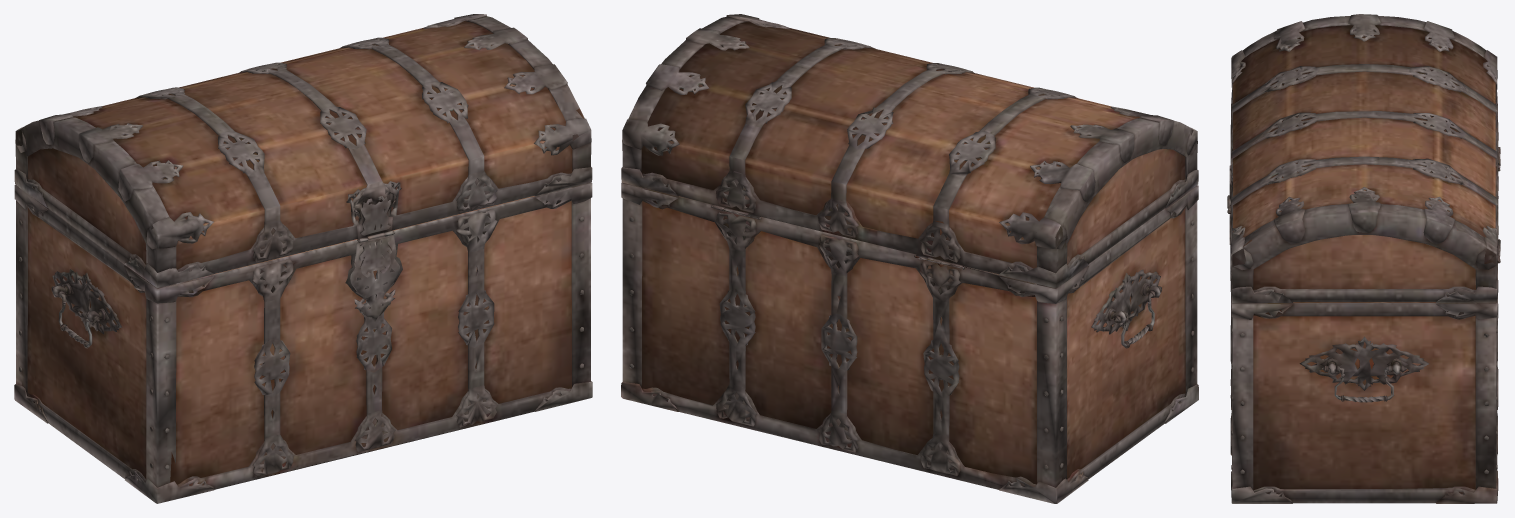
File: treasure_chest.glb
3 views of the same model, side by side, from view 1: azimuth 30°, elevation 25°; view 2: azimuth 150°, elevation 25°; view 3: azimuth 270°, elevation 25° (orthographic). The views are drawn at different scales.
Visible parts, largest first — view 1: treasure_chest_bottom; view 2: treasure_chest_bottom; view 3: treasure_chest_bottom.
Boxes of the visible parts, box(x1,y1,x2,y2) form: treasure_chest_bottom: box(14, 14, 592, 503); treasure_chest_bottom: box(621, 14, 1198, 503); treasure_chest_bottom: box(1227, 14, 1500, 503).
Bounding box in the file's own units: 0.959 × 0.6181 × 0.5223.
Materials: 1 (1 with a texture image).
